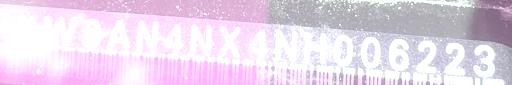letter: (40, 14, 78, 45), (134, 20, 162, 57), (386, 35, 412, 74), (103, 18, 131, 53), (414, 39, 440, 76), (12, 12, 40, 45), (442, 41, 468, 76), (274, 28, 298, 65), (331, 32, 355, 69), (474, 42, 498, 79), (216, 25, 240, 60), (359, 34, 383, 69), (244, 28, 268, 61), (303, 29, 325, 64), (188, 23, 212, 54), (163, 20, 183, 57), (78, 16, 100, 49)
